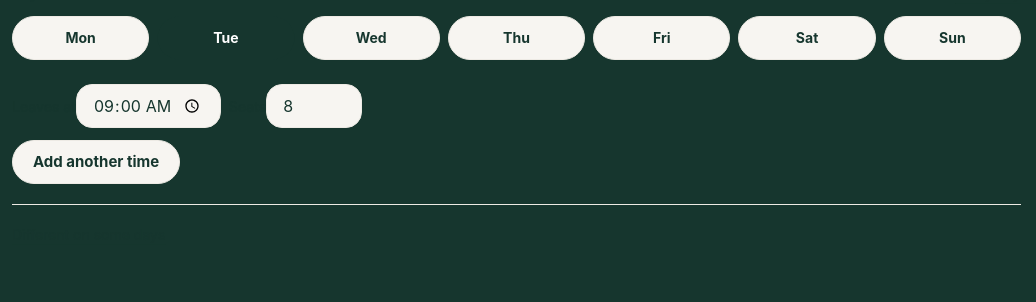
it: clearing a schedule the listing has › is a plain save when the listing does not repeat weekly
The image size is (1036, 302).
Click the button with aria-label "Tuesday".
click(226, 38)  # box [157,16,295,60]
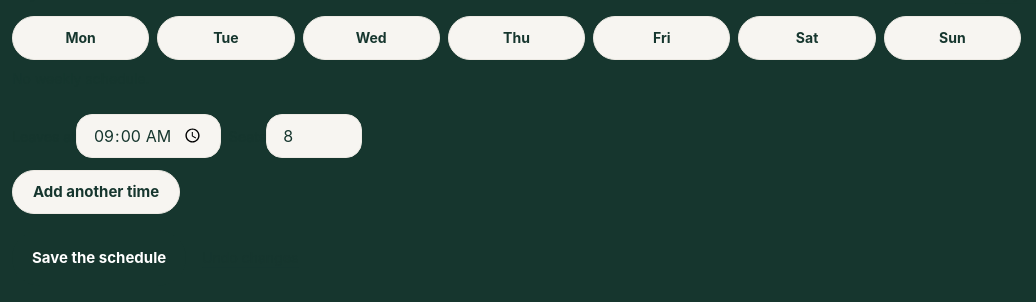
expect the button "Save the schedule" is shown: met, box [12,230,186,286]
